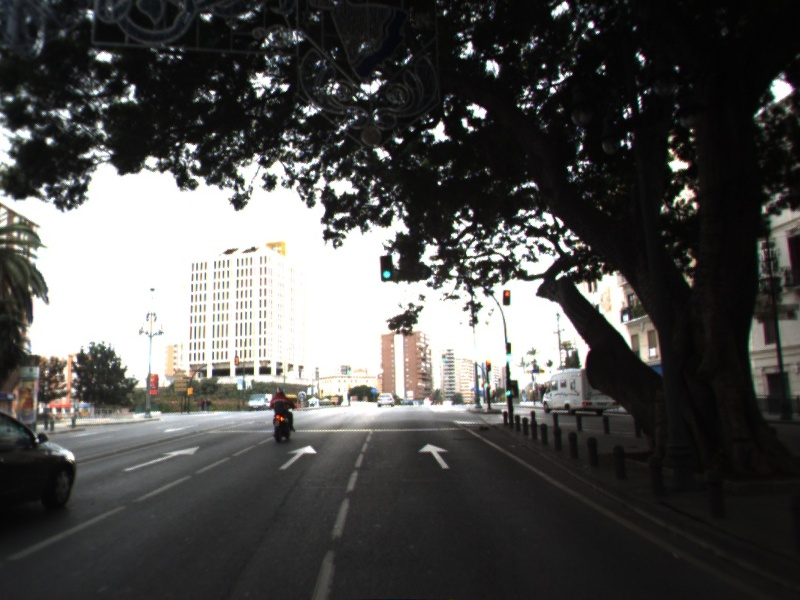STRAIGHT: (120, 444, 202, 474), (276, 443, 320, 472), (416, 441, 453, 471)
